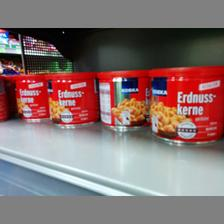Nuss: (148, 64, 224, 144), (94, 70, 150, 130), (44, 71, 98, 129), (12, 74, 48, 122)
